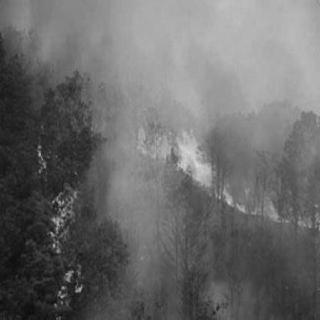Fire: (134, 117, 318, 225), (29, 133, 91, 307)
